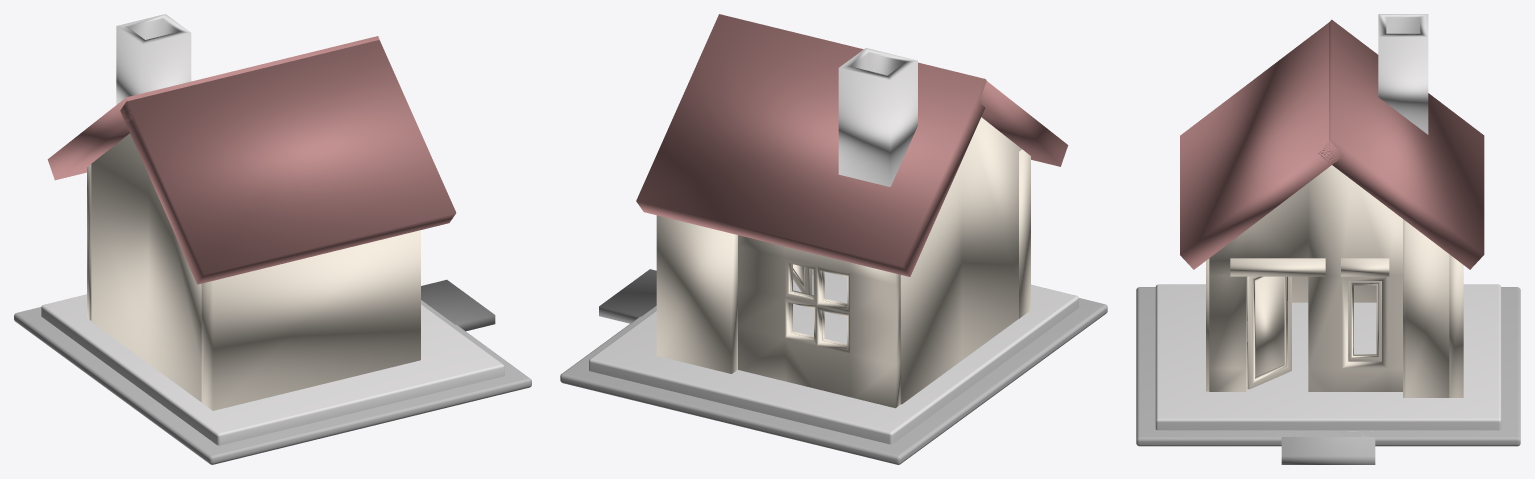
The model's file is home.glb.
3 views of the same model, side by side, from view 1: azimuth 30°, elevation 25°; view 2: azimuth 150°, elevation 25°; view 3: azimuth 270°, elevation 25° (orthographic). The views are drawn at different scales.
Parts seen in each view (by area): view 1: 3DSMeshMatrix (×9); view 2: 3DSMeshMatrix (×10); view 3: 3DSMeshMatrix (×16).
Part boxes in pixels (x1,y1,x2,y2): 3DSMeshMatrix (×9): [14, 14, 531, 464]; 3DSMeshMatrix (×10): [560, 14, 1107, 464]; 3DSMeshMatrix (×16): [1136, 14, 1520, 464].
Bounding box in the file's own units: 285 × 240 × 272.
